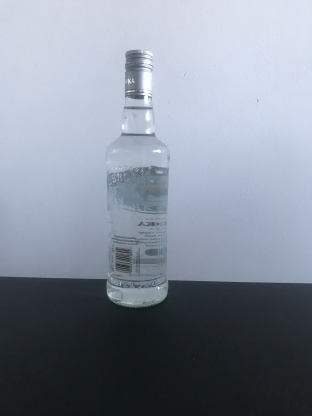nakretka: (123, 47, 155, 101)
